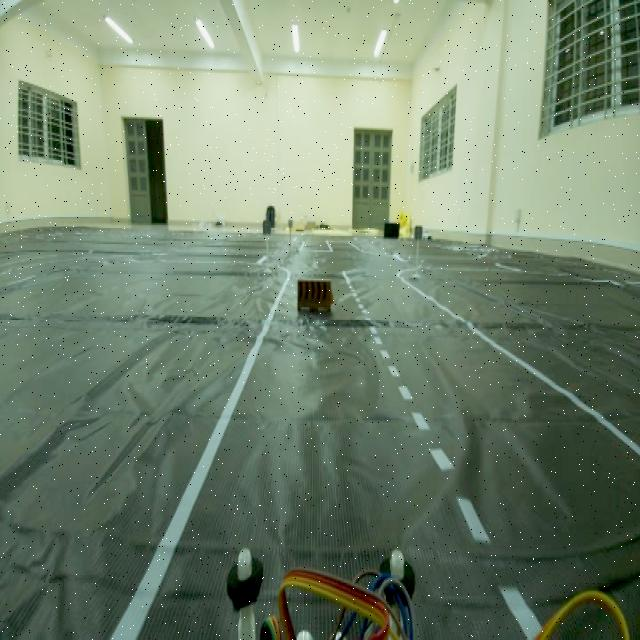roadblock: (295, 268, 339, 331)
